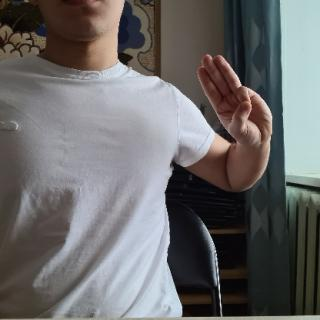THA: (196, 49, 276, 151)
